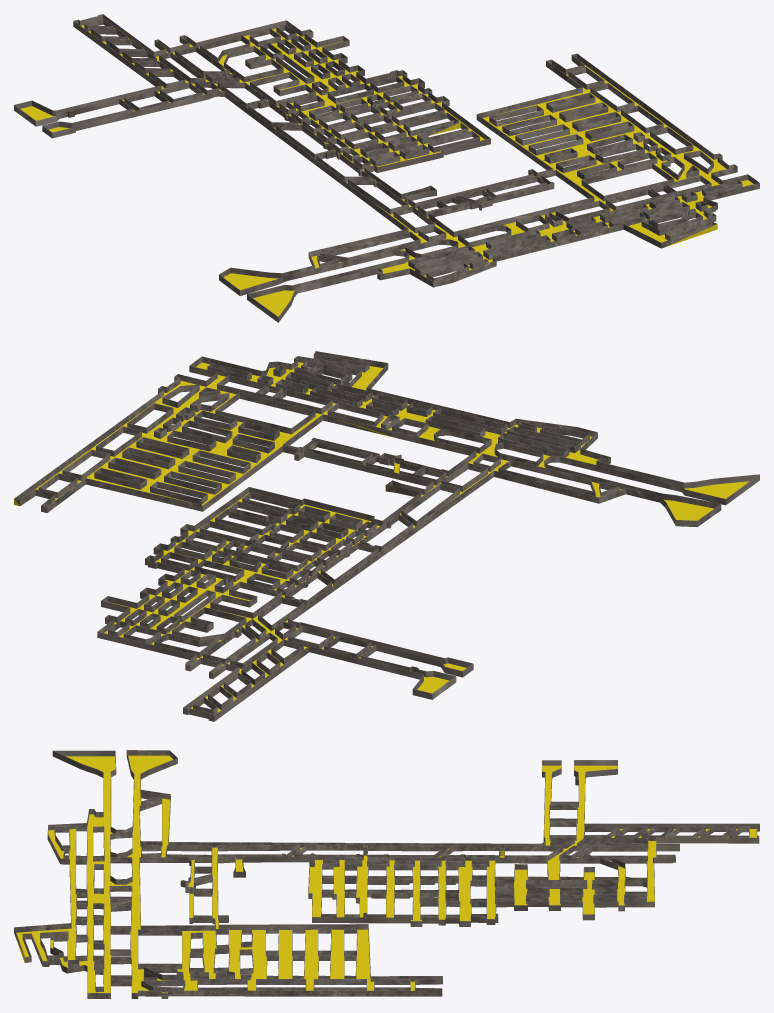
The model's file is tunnel.dae.
The picture shows the model from 3 angles, top to bottom: view 1: azimuth 30°, elevation 25°; view 2: azimuth 150°, elevation 25°; view 3: azimuth 270°, elevation 25°; orthographic projection. The views are drawn at different scales.
Parts seen in each view (by area): view 1: node; view 2: node; view 3: node.
Part boxes in pixels (x1,y1,x2,y2): node: (14,14,759,322); node: (14,351,759,721); node: (14,750,759,998).
Size of the model in its own units: 252 by 327 by 3.36.
Materials: 2 (1 with a texture image).
